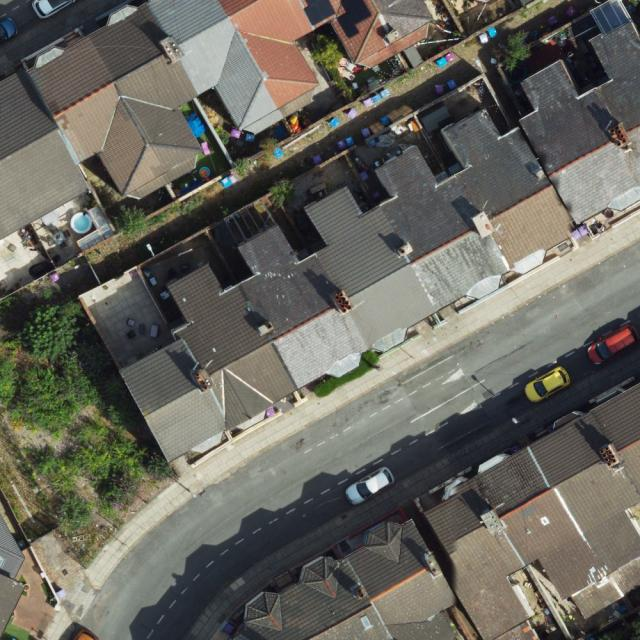roof: (124, 0, 640, 462), (0, 0, 432, 240), (243, 379, 640, 640), (0, 509, 27, 633)
skylight: (359, 611, 374, 632), (536, 514, 553, 526)
